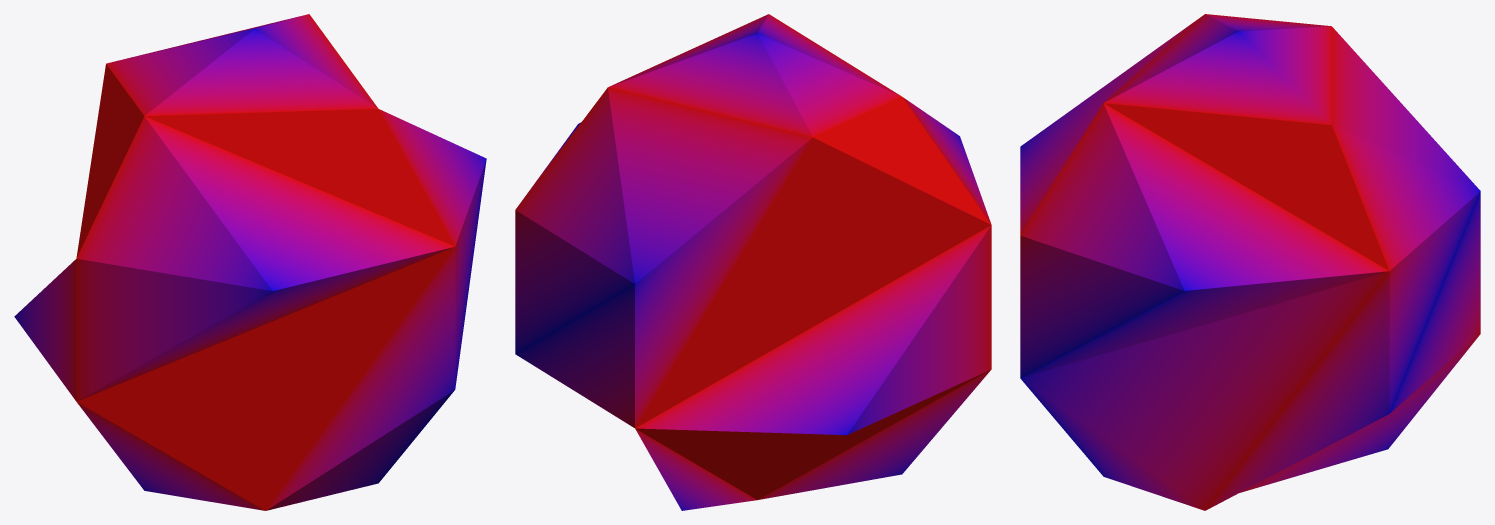
File: after_retriangulation_type_colored_7.obj
The picture shows the model from 3 angles, left to right: view 1: azimuth 30°, elevation 25°; view 2: azimuth 150°, elevation 25°; view 3: azimuth 270°, elevation 25°; orthographic projection.
Bounding box in the file's own units: 1.85 × 2 × 1.81.
